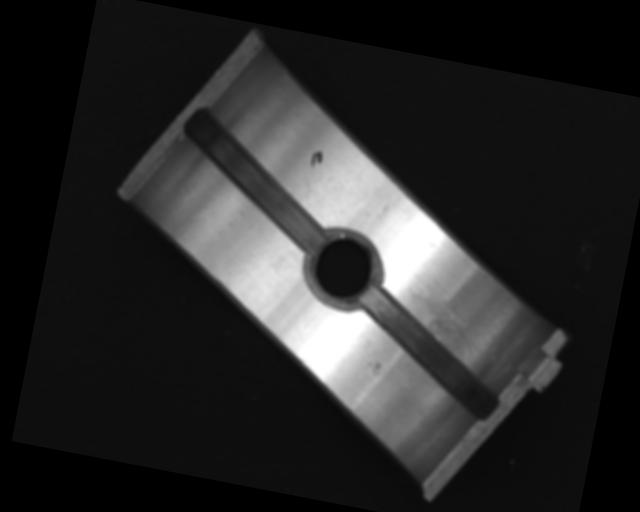blot: (308, 148, 324, 170)
bruise: (363, 358, 384, 379)
gap: (166, 106, 341, 254), (344, 286, 515, 423)
hole: (302, 225, 385, 315)
nick: (370, 183, 401, 228)
scratch: (394, 280, 491, 362)
